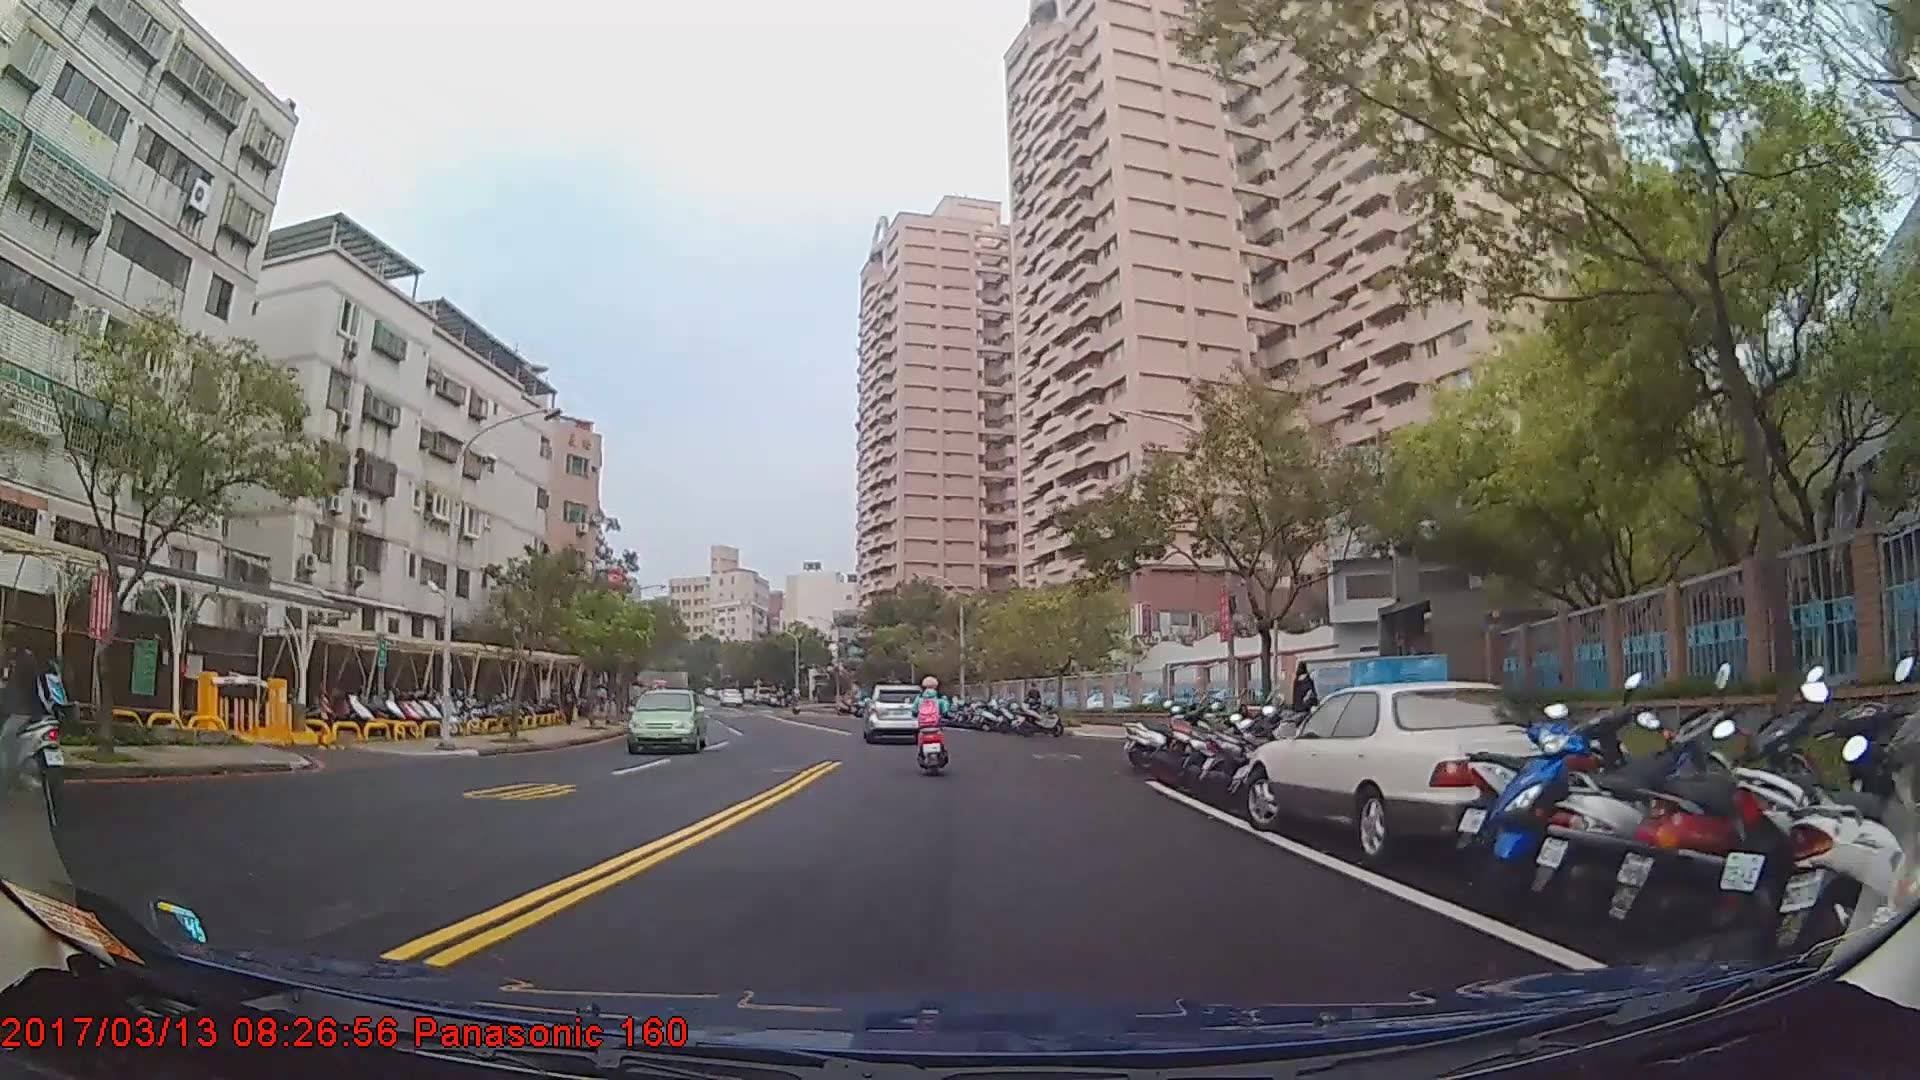pedestrian: (1293, 660, 1324, 750), (1025, 683, 1045, 728)
rider: (7, 638, 64, 802), (912, 674, 953, 779)
vehicle: (1247, 679, 1629, 859), (627, 686, 706, 753), (866, 681, 933, 742)
